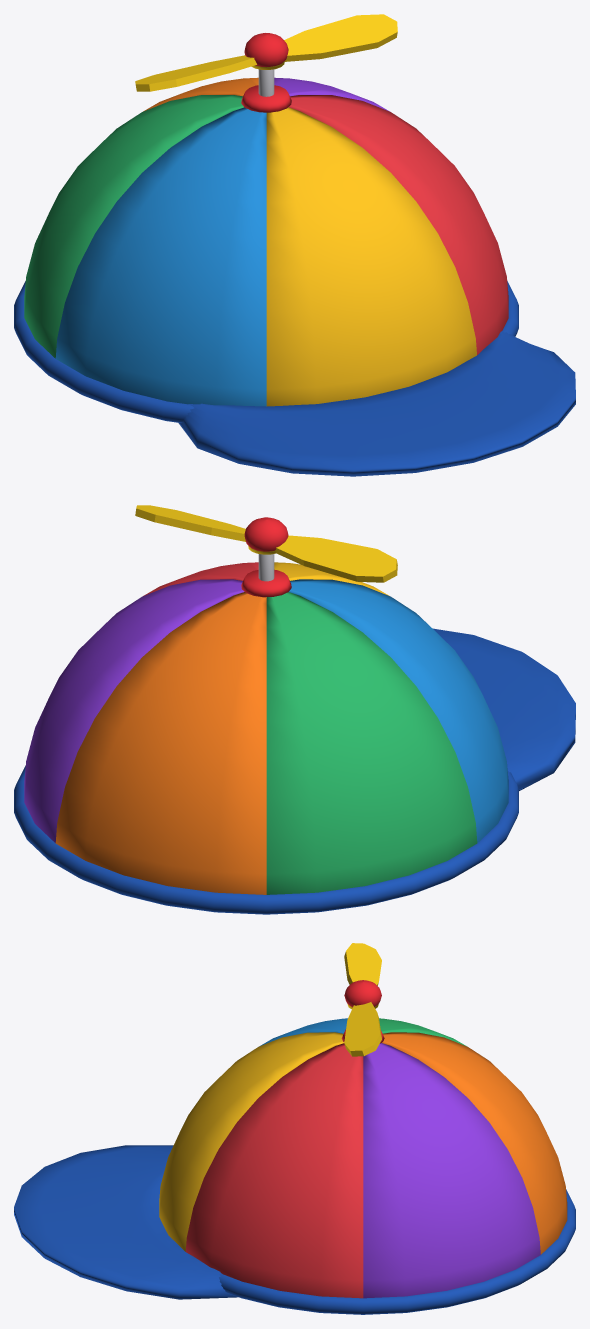
The model's file is chapeu_helice.obj.
3 views of the same model, one above another, from view 1: azimuth 30°, elevation 25°; view 2: azimuth 150°, elevation 25°; view 3: azimuth 270°, elevation 25° (orthographic). The views are drawn at different scales.
Visible parts, largest first — view 1: Bone_Base, Helice; view 2: Bone_Base, Helice; view 3: Bone_Base, Helice.
Boxes of the visible parts, box(x1,y1,x2,y2) form: Bone_Base: box(14, 69, 575, 476); Helice: box(135, 14, 397, 91); Bone_Base: box(14, 554, 575, 914); Helice: box(135, 505, 397, 582); Bone_Base: box(14, 1018, 575, 1314); Helice: box(344, 943, 381, 1056).
Bounding box in the file's own units: 1.05 × 0.6734 × 1.38.
